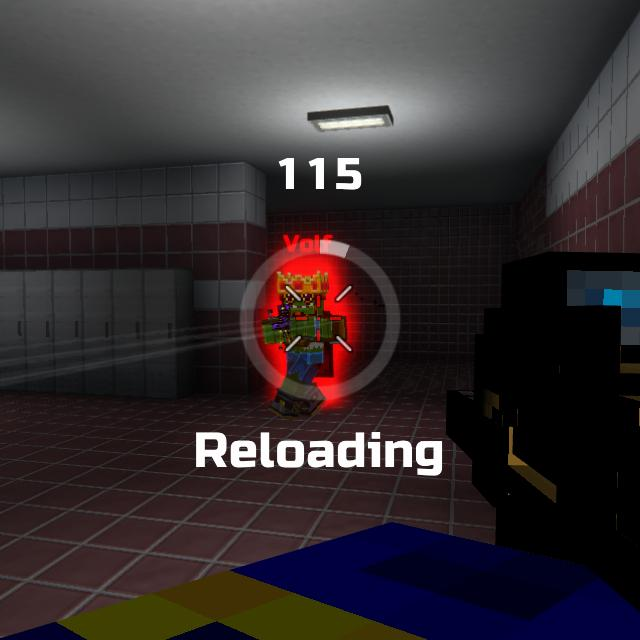Enemy: (260, 277, 346, 420)
